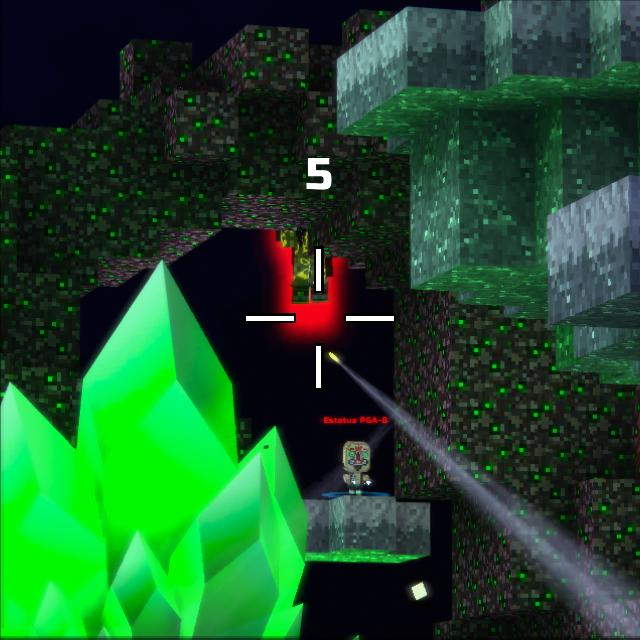Enemy: (275, 230, 329, 304)
